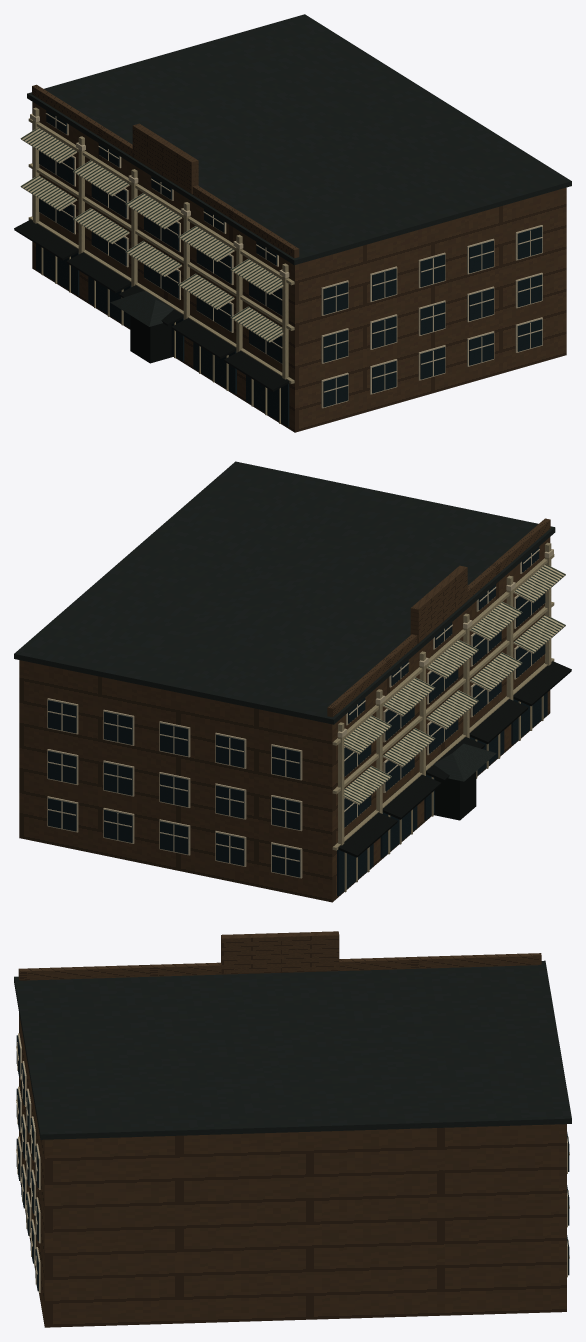
3 views of the same model, one above another, from view 1: azimuth 30°, elevation 25°; view 2: azimuth 150°, elevation 25°; view 3: azimuth 270°, elevation 25° (orthographic). The views are drawn at different scales.
Parts seen in each view (by area): view 1: pschorr-1, pschorr-0, pschorr-3, pschorr-2, pschorr-5, pschorr-4, pschorr-7, pschorr-6; view 2: pschorr-1, pschorr-0, pschorr-3, pschorr-2, pschorr-5, pschorr-4, pschorr-7, pschorr-6; view 3: pschorr-0, pschorr-1, pschorr-4, pschorr-3.
Part boxes in pixels (left/top/right/bottom): pschorr-1: left=27, top=14, right=571, bottom=326; pschorr-0: left=32, top=84, right=566, bottom=432; pschorr-3: left=36, top=110, right=542, bottom=426; pschorr-2: left=28, top=107, right=294, bottom=423; pschorr-5: left=20, top=128, right=283, bottom=342; pschorr-4: left=30, top=113, right=542, bottom=408; pschorr-7: left=14, top=219, right=292, bottom=391; pschorr-6: left=21, top=128, right=282, bottom=341; pschorr-1: left=14, top=461, right=555, bottom=781; pschorr-0: left=19, top=518, right=550, bottom=902; pschorr-3: left=48, top=546, right=547, bottom=896; pschorr-2: left=332, top=542, right=554, bottom=892; pschorr-5: left=343, top=565, right=565, bottom=805; pschorr-4: left=47, top=549, right=553, bottom=878; pschorr-7: left=334, top=661, right=571, bottom=857; pschorr-6: left=344, top=564, right=565, bottom=804; pschorr-0: left=18, top=931, right=566, bottom=1327; pschorr-1: left=14, top=960, right=571, bottom=1139; pschorr-4: left=16, top=1033, right=569, bottom=1292; pschorr-3: left=16, top=1035, right=569, bottom=1291.
Bounding box in the file's own units: 33.37 × 19.5 × 42.62.
Materials: 8 (8 with a texture image).
